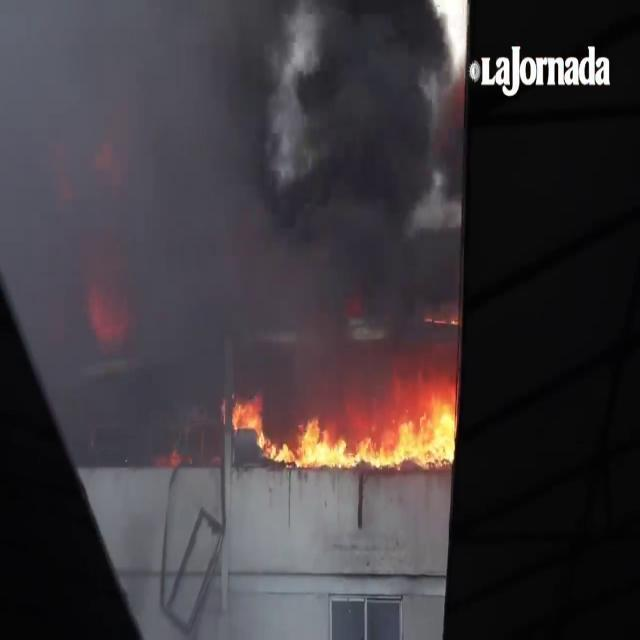Fire: (255, 375, 460, 478)
Smoke: (240, 1, 462, 354)
